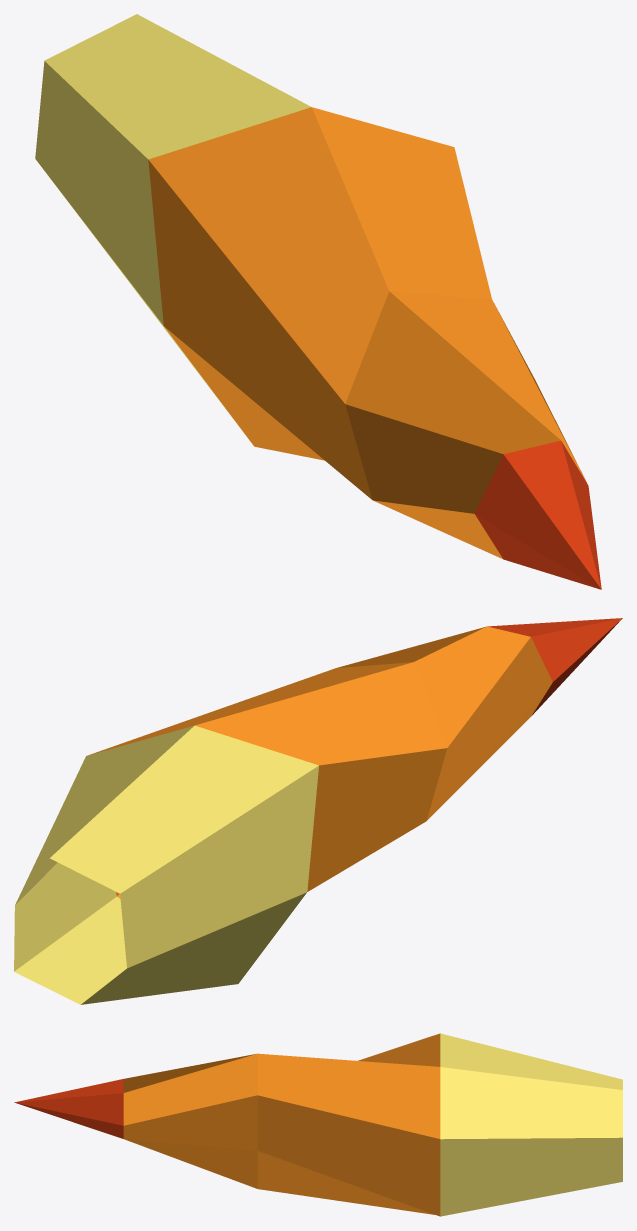
3 views of the same model, one above another, from view 1: azimuth 30°, elevation 25°; view 2: azimuth 150°, elevation 25°; view 3: azimuth 270°, elevation 25° (orthographic). The views are drawn at different scales.
Parts seen in each view (by area): view 1: t00_g20_p3; view 2: t00_g20_p3; view 3: t00_g20_p3.
Boxes of the visible parts, x1=… form: t00_g20_p3: x1=35, y1=14, x2=601, y2=589; t00_g20_p3: x1=14, y1=618, x2=622, y2=1004; t00_g20_p3: x1=14, y1=1033, x2=622, y2=1216.
Bounding box in the file's own units: 2.48 × 2.52 × 8.55.
